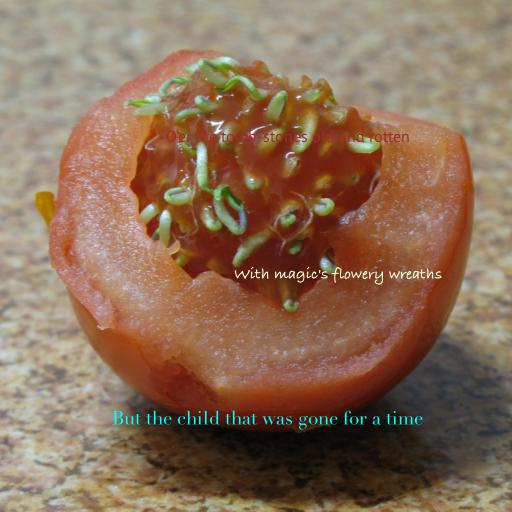Bradley Hand: (234, 266, 442, 285)
Didot: (111, 410, 423, 430)
PT Sans: (166, 130, 410, 143)
